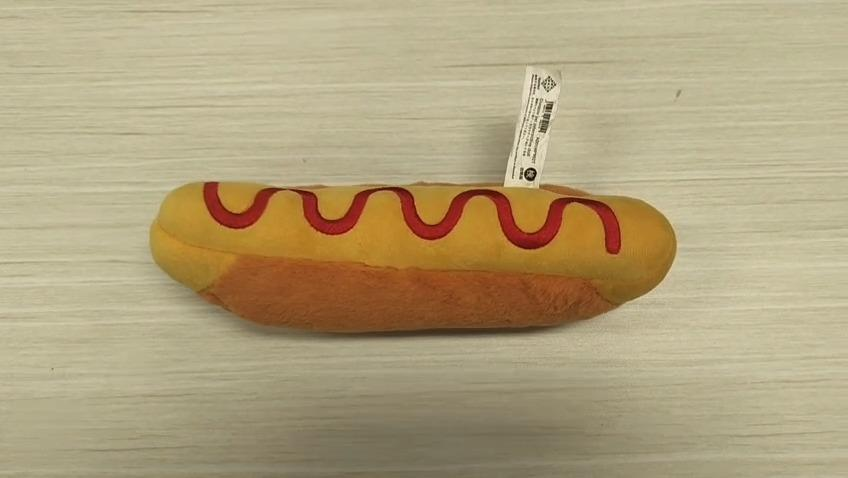hotdog: (148, 178, 677, 334)
